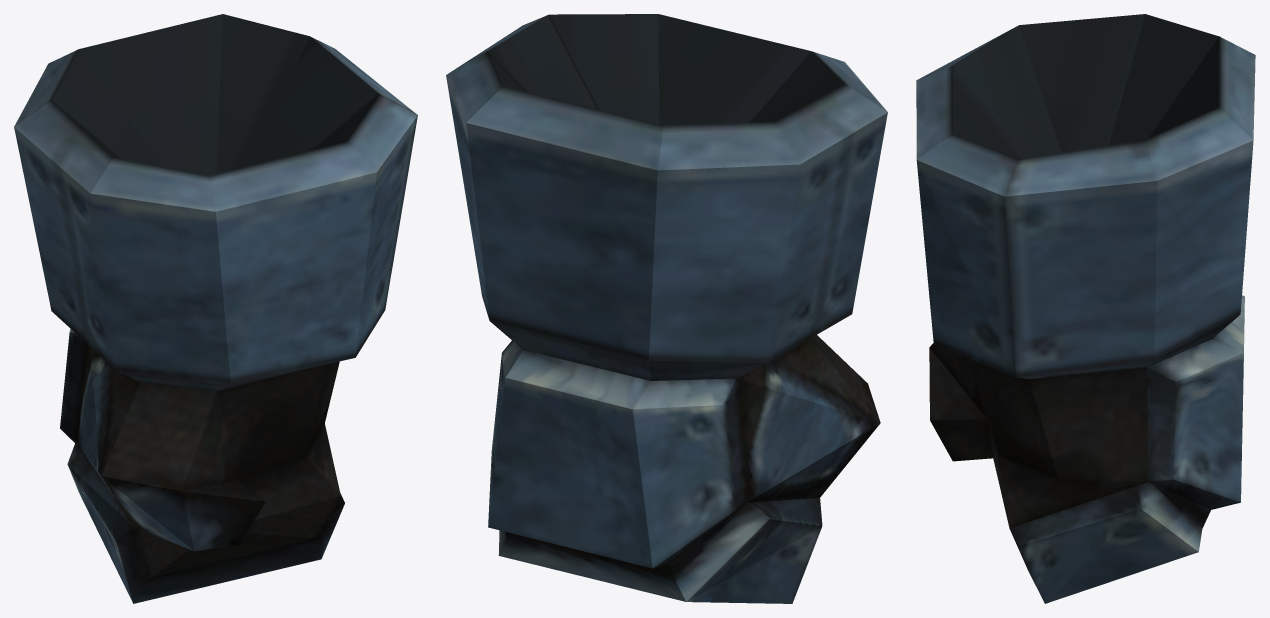
Rendered from Panda_brawlerGauntlet_left.obj.
3 views of the same model, side by side, from view 1: azimuth 30°, elevation 25°; view 2: azimuth 150°, elevation 25°; view 3: azimuth 270°, elevation 25° (orthographic). The views are drawn at different scales.
Parts seen in each view (by area): view 1: Panda_brawlerGauntlet_tri [left]; view 2: Panda_brawlerGauntlet_tri [left]; view 3: Panda_brawlerGauntlet_tri [left].
Boxes of the visible parts, x1,y1,x2,y2 form: Panda_brawlerGauntlet_tri [left]: [14, 14, 417, 603]; Panda_brawlerGauntlet_tri [left]: [446, 14, 887, 603]; Panda_brawlerGauntlet_tri [left]: [916, 14, 1255, 603].
Bounding box in the file's own units: 0.1369 × 0.1936 × 0.1213.
Materials: 1 (1 with a texture image).
